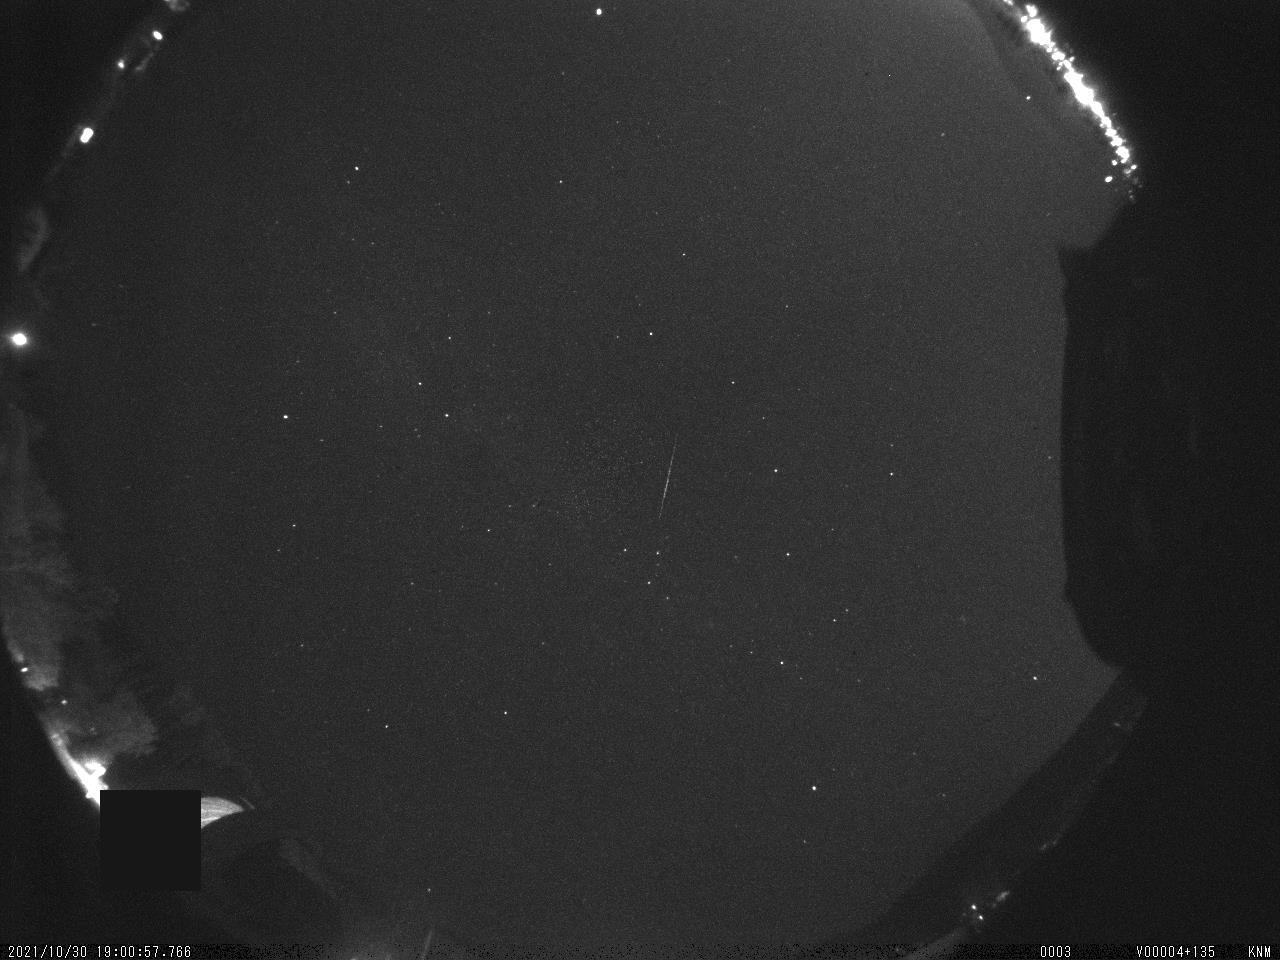meteor: (632, 416, 699, 544)
